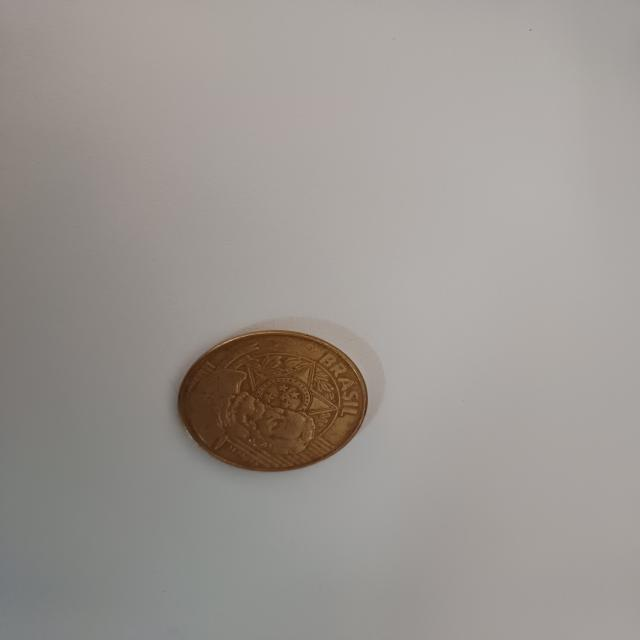25 cents: (180, 329, 373, 472)
